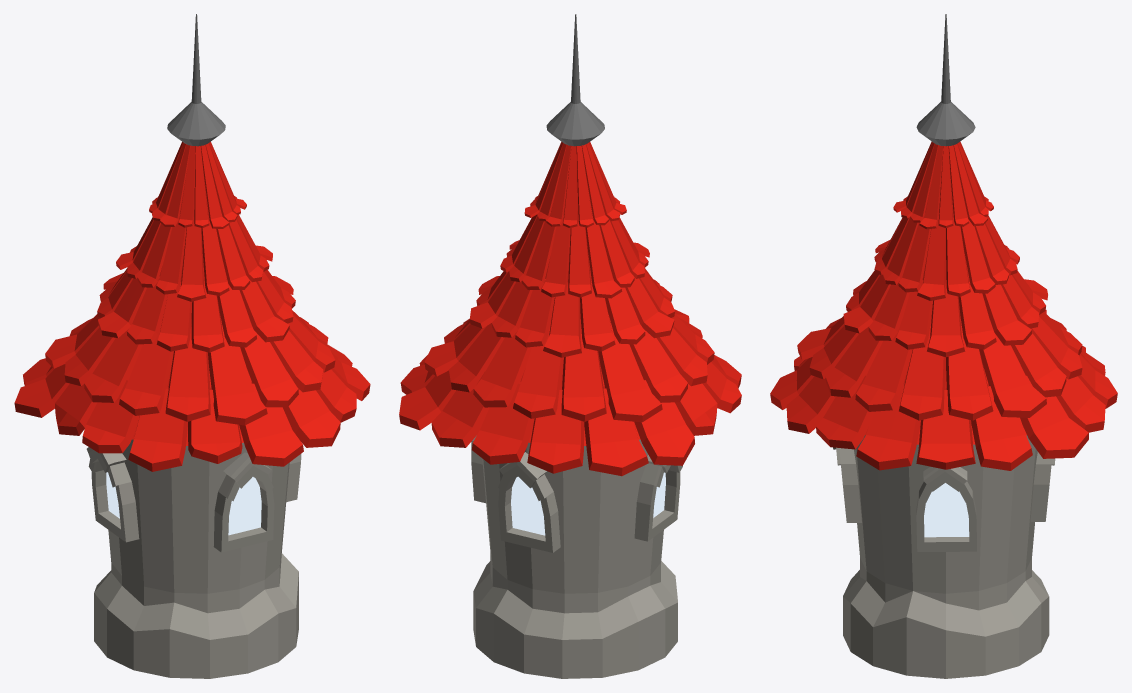
Rendered from tower_low_poly.glb.
3 views of the same model, side by side, from view 1: azimuth 30°, elevation 25°; view 2: azimuth 150°, elevation 25°; view 3: azimuth 270°, elevation 25° (orthographic).
Parts seen in each view (by area): view 1: Circle, Circle.002, Circle.001, Circle.003, Circle.004, Circle.005, Plane.007, Plane.004, Plane.012; view 2: Circle, Circle.001, Circle.002, Circle.003, Circle.004, Circle.005, Plane.002, Plane.004, Plane.003, Plane.009; view 3: Circle, Circle.001, Circle.002, Circle.003, Circle.004, Circle.005, Plane.009, Plane.010, Plane.007, Plane.002.
Part boxes in pixels (x1,y1,x2,y2): Circle: (94, 14, 298, 678); Circle.002: (45, 310, 335, 425); Circle.001: (14, 344, 370, 471); Circle.003: (97, 268, 295, 352); Circle.004: (116, 214, 272, 301); Circle.005: (149, 141, 246, 228); Plane.007: (213, 452, 274, 552); Plane.004: (86, 447, 139, 542); Plane.012: (228, 477, 261, 535); Circle: (473, 14, 677, 678); Circle.001: (399, 355, 741, 476); Circle.002: (424, 309, 714, 422); Circle.003: (469, 268, 674, 357); Circle.004: (500, 212, 649, 298); Circle.005: (524, 141, 626, 227); Plane.002: (498, 452, 560, 552); Plane.004: (634, 455, 682, 541); Plane.003: (511, 476, 545, 535); Plane.009: (471, 435, 485, 503); Circle: (843, 14, 1049, 678); Circle.001: (770, 346, 1117, 470); Circle.002: (797, 310, 1082, 420); Circle.003: (843, 271, 1047, 357); Circle.004: (874, 213, 1019, 300); Circle.005: (893, 141, 993, 229); Plane.009: (916, 466, 976, 551); Plane.010: (924, 483, 969, 537); Plane.007: (833, 447, 861, 522); Plane.002: (1030, 452, 1055, 521).
Bounding box in the file's own units: 25.16 × 51.01 × 25.88.
